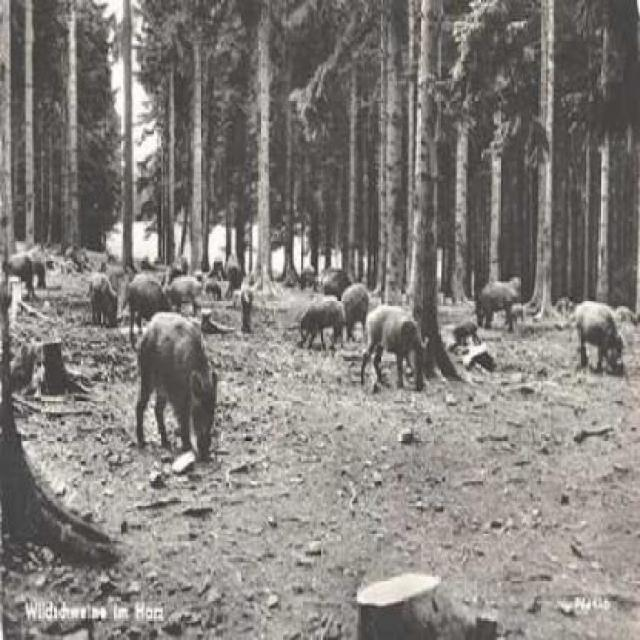pig: (118, 288, 264, 475), (360, 302, 445, 398), (566, 272, 639, 374), (485, 271, 533, 342), (302, 289, 339, 341), (343, 263, 369, 319)
